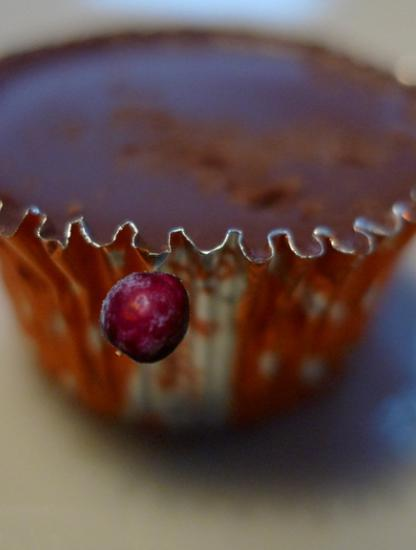Plum: (97, 266, 196, 365)
